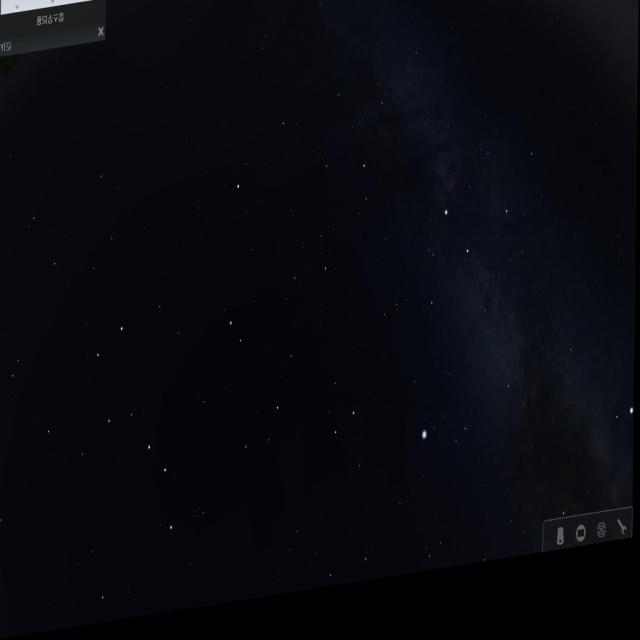cygnus: (418, 200, 520, 419)
lyra: (417, 401, 482, 475)
ursa_major: (86, 313, 197, 550)
